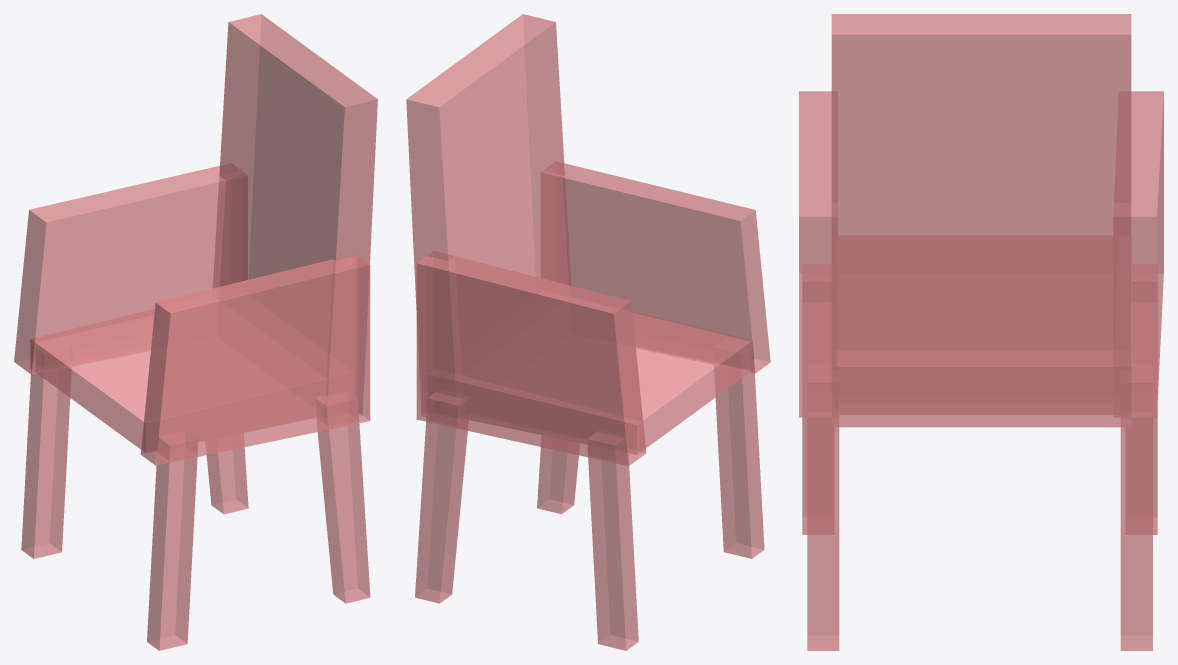
The model's file is ChairA_01_collision.DAE.
3 renders of one model, left to right at view 1: azimuth 30°, elevation 25°; view 2: azimuth 150°, elevation 25°; view 3: azimuth 270°, elevation 25°, orthographic. The views are drawn at different scales.
Parts seen in each view (by area): view 1: ChairA_01_collision; view 2: ChairA_01_collision; view 3: ChairA_01_collision.
Boxes of the visible parts, box(x1,y1,x2,y2) form: ChairA_01_collision: box(14, 14, 377, 650); ChairA_01_collision: box(406, 14, 770, 650); ChairA_01_collision: box(799, 14, 1163, 650).
Bounding box in the file's own units: 46.23 × 48.36 × 91.69.
